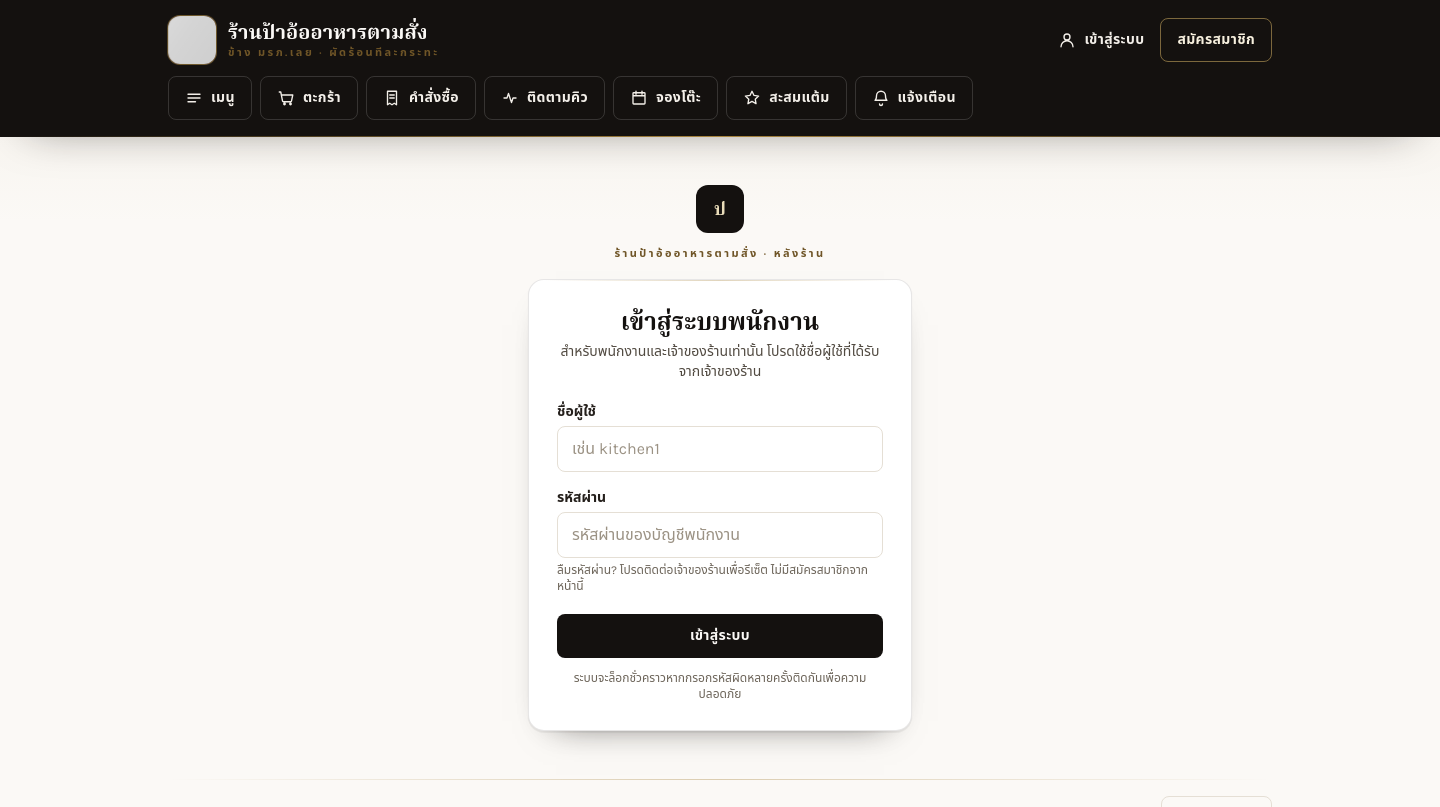
Scenario: App ระดับ integration (login/session flow) › login สำเร็จแล้วเห็นหน้าพนักงานทันที (ไม่วนกลับหน้าล็อกอิน)
In the field labelled "ชื่อผู้ใช้": (720, 449) [557,426,883,472], type "owner"
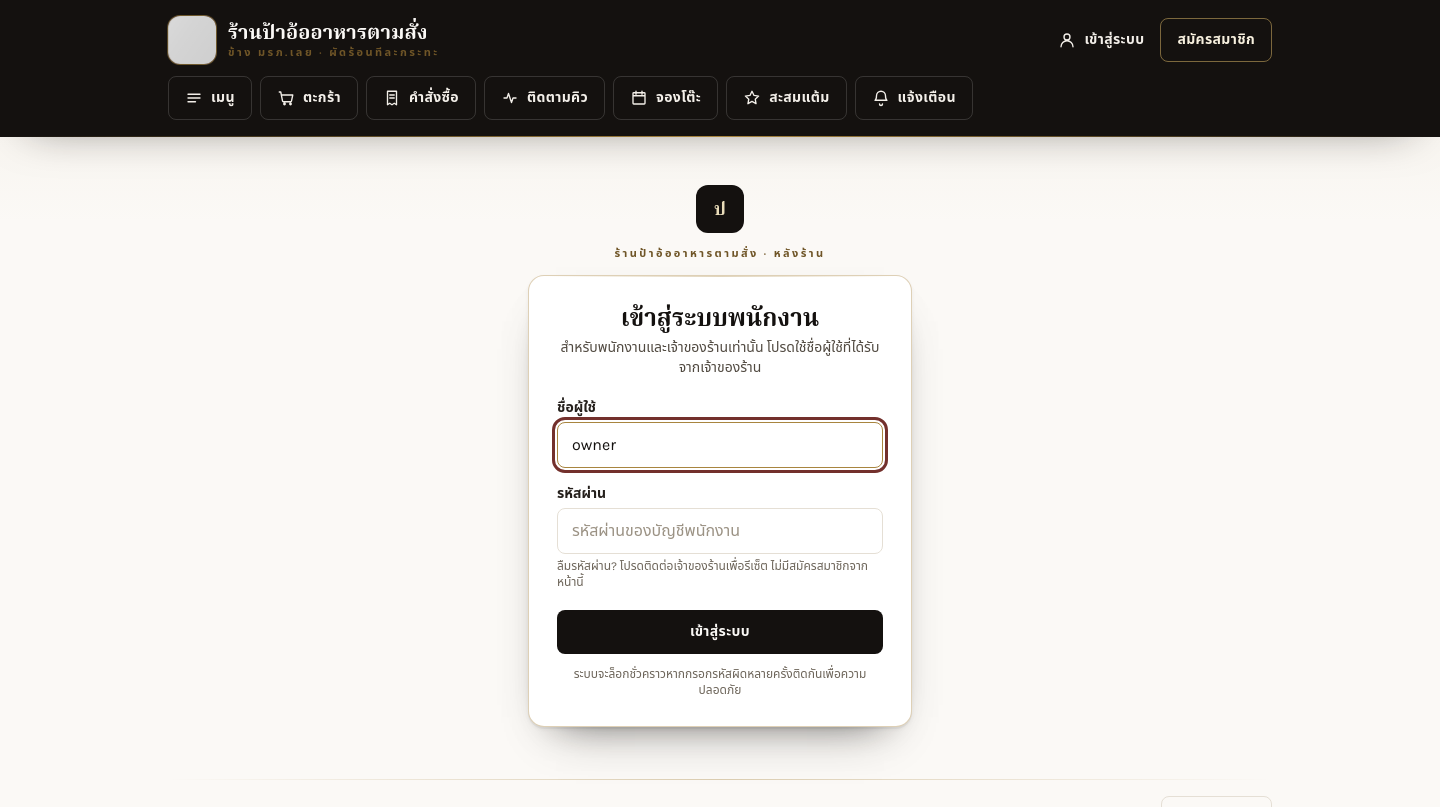
In the password field labelled "รหัสผ่าน": (720, 531) [557,508,883,554], type "OwnerPass123"
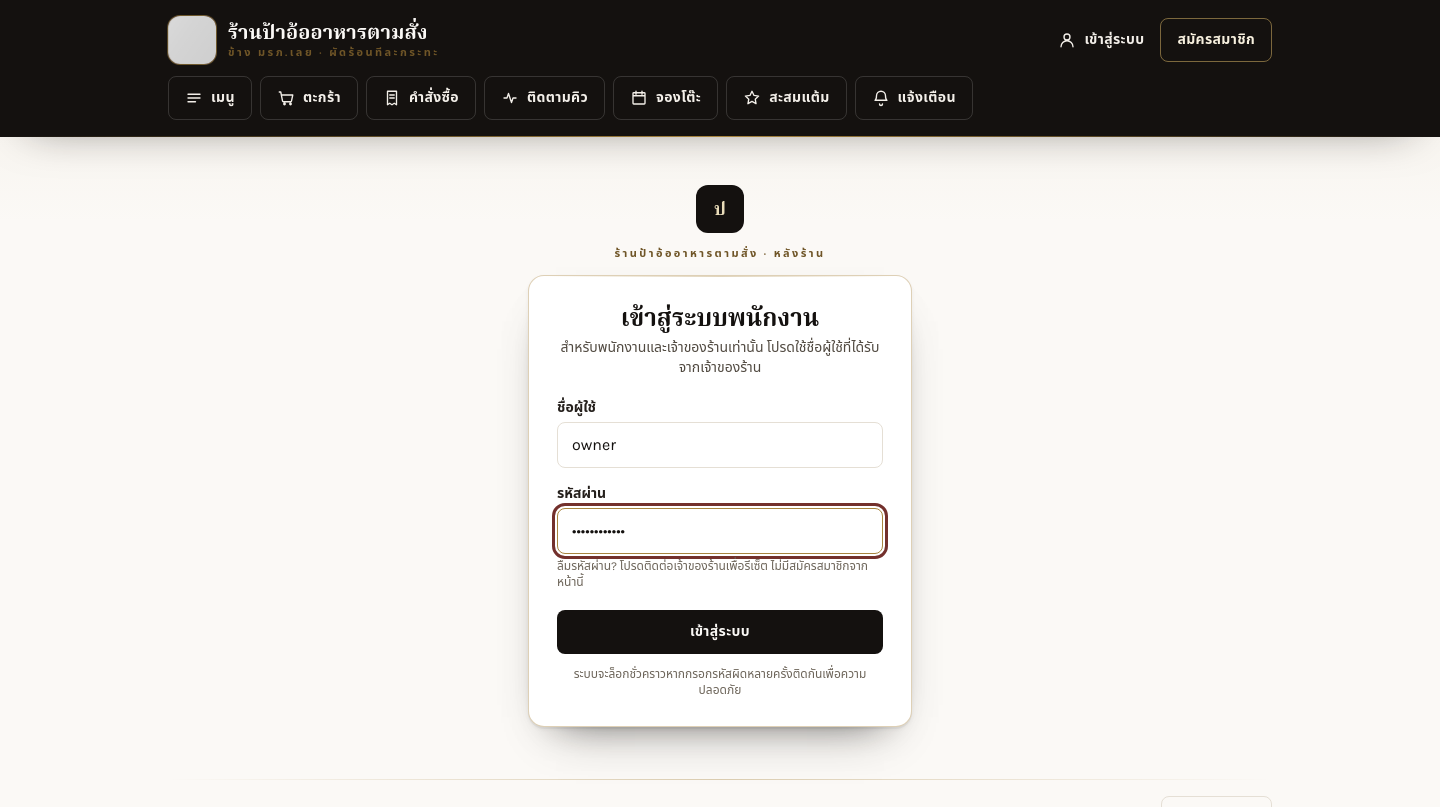
Click the button "เข้าสู่ระบบ": (720, 632) [557,610,883,654]
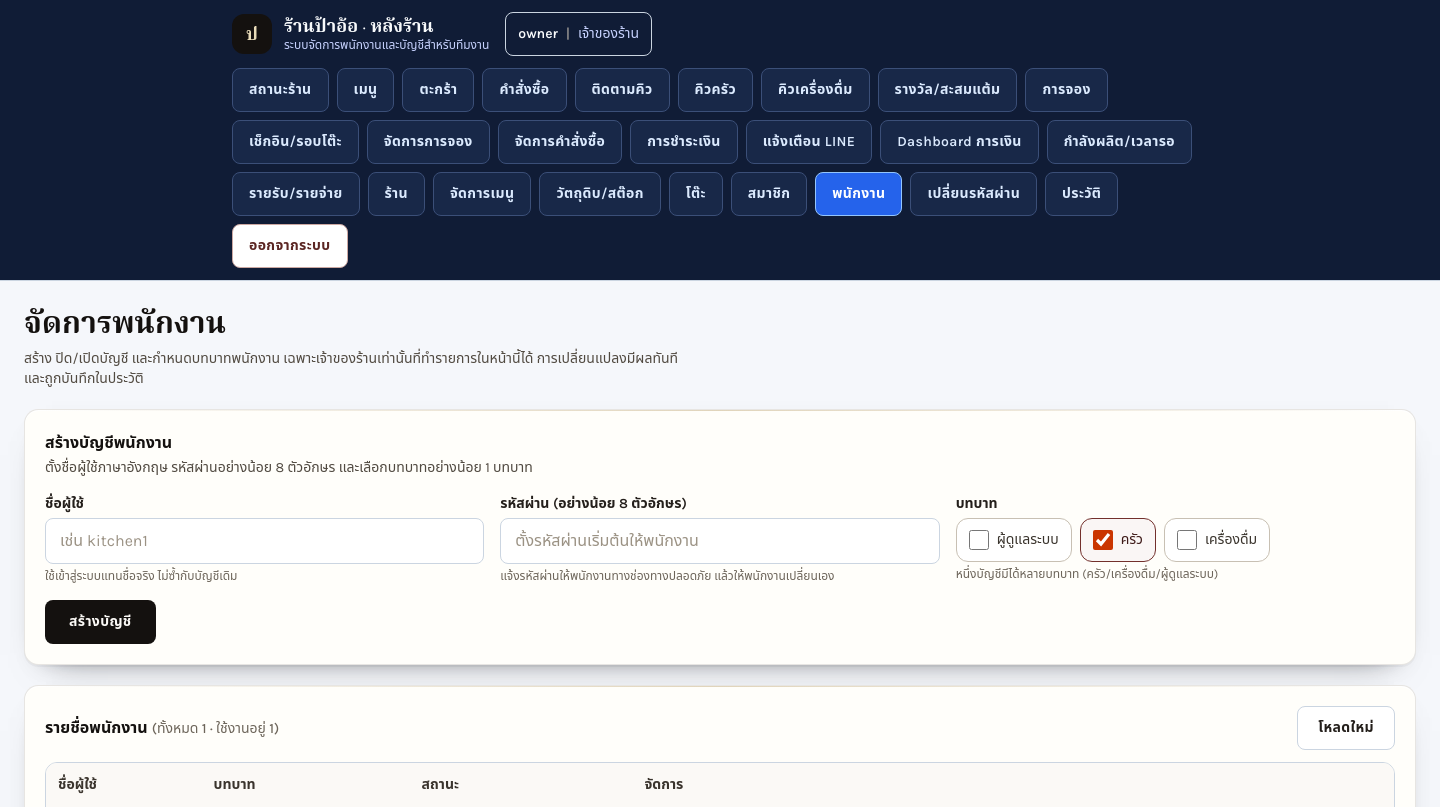
Expected: the heading "จัดการพนักงาน" is shown, [24,305,226,342]
Expected: the form labelled "ฟอร์มเข้าสู่ระบบ" is gone
